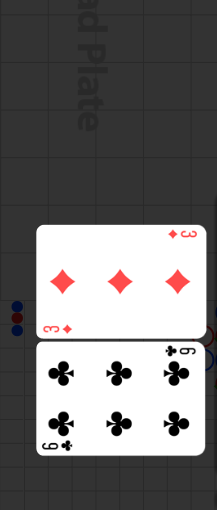3D: (42, 323, 74, 335)
6C: (163, 345, 197, 359)
